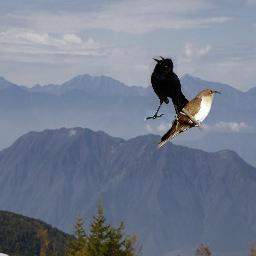Crow: (144, 56, 192, 121)
Cuckoo: (158, 88, 221, 149)
